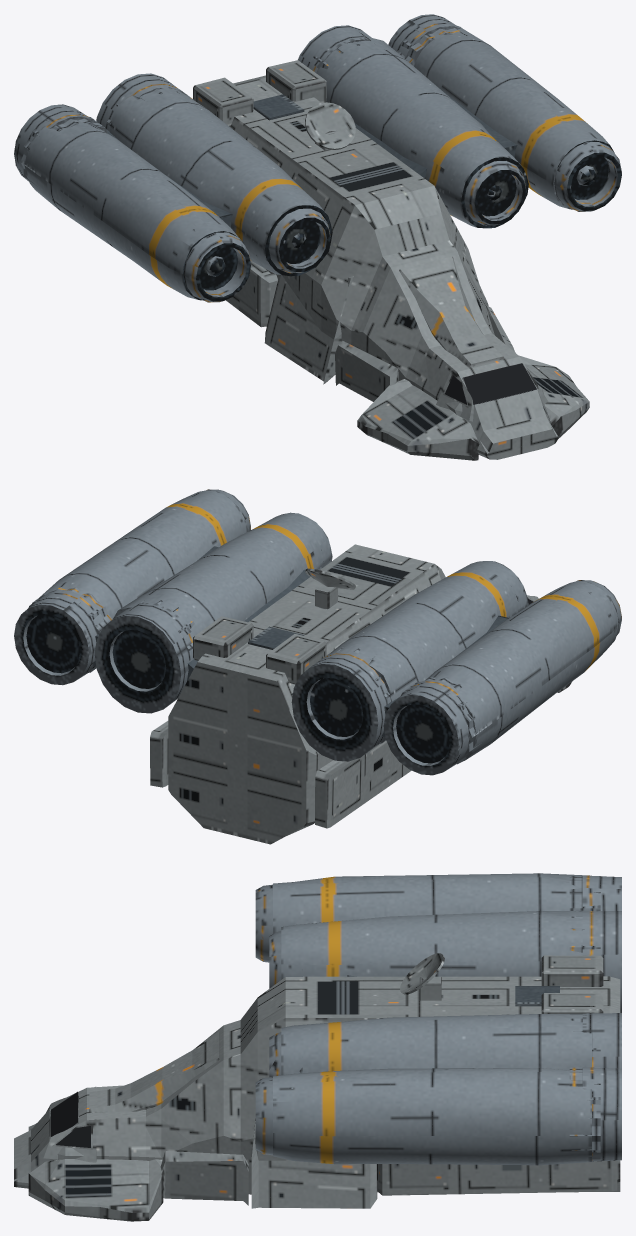
The model's file is andromeda.glb.
3 renders of one model, top to bottom at view 1: azimuth 30°, elevation 25°; view 2: azimuth 150°, elevation 25°; view 3: azimuth 270°, elevation 25°, orthographic. The views are drawn at different scales.
Visible parts, largest first — view 1: andromeda · fitted hull; view 2: andromeda · fitted hull; view 3: andromeda · fitted hull.
Part boxes in pixels (bbox=[...]): andromeda · fitted hull: bbox=[14, 14, 621, 460]; andromeda · fitted hull: bbox=[14, 489, 621, 844]; andromeda · fitted hull: bbox=[14, 873, 621, 1221].
Bounding box in the file's own units: 1.81 × 0.7852 × 1.98.
3 materials, 2 textured.
